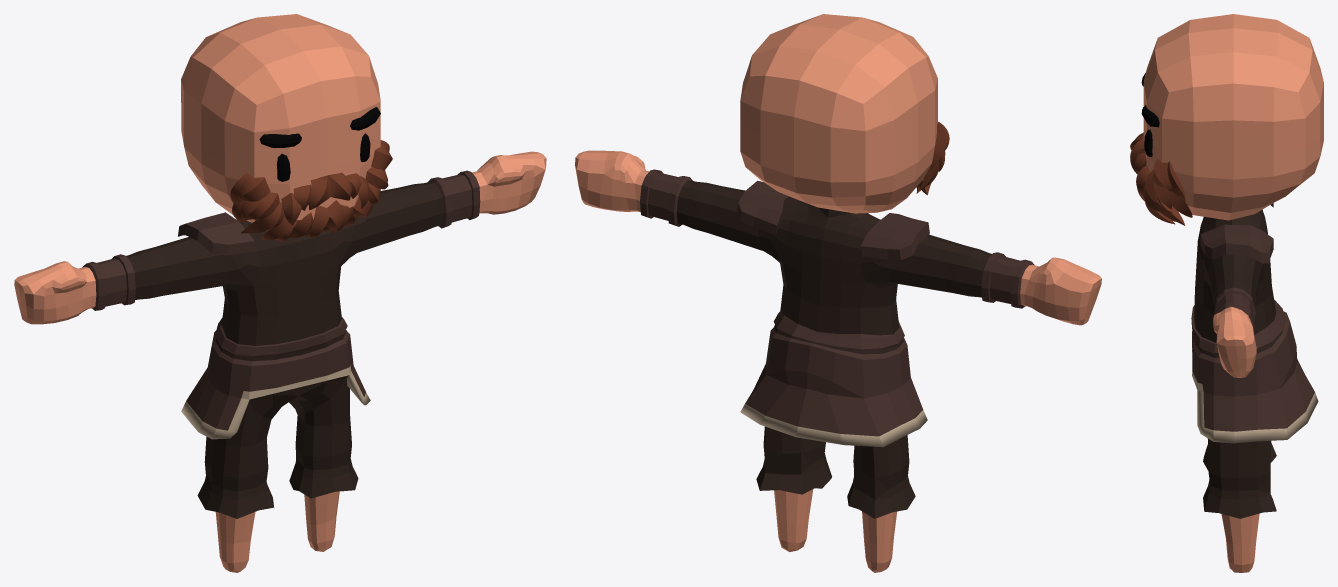
File: VIKING.fbx
3 views of the same model, side by side, from view 1: azimuth 30°, elevation 25°; view 2: azimuth 150°, elevation 25°; view 3: azimuth 270°, elevation 25° (orthographic). The views are drawn at different scales.
Visible parts, largest first — view 1: Body; view 2: Body; view 3: Body.
Boxes of the visible parts, box(x1,y1,x2,y2) form: Body: box(14, 14, 546, 572); Body: box(575, 14, 1101, 572); Body: box(1130, 14, 1323, 572).
Bounding box in the file's own units: 324 × 315 × 106.
